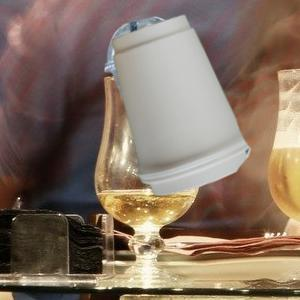cup: (114, 14, 250, 198)
